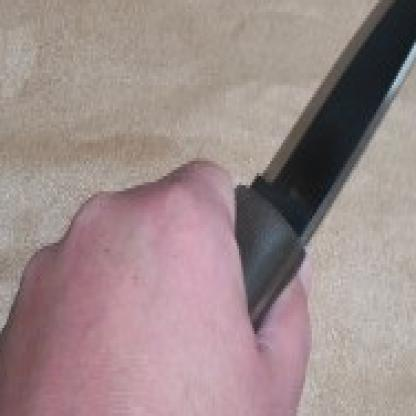knife: (137, 0, 414, 383)
